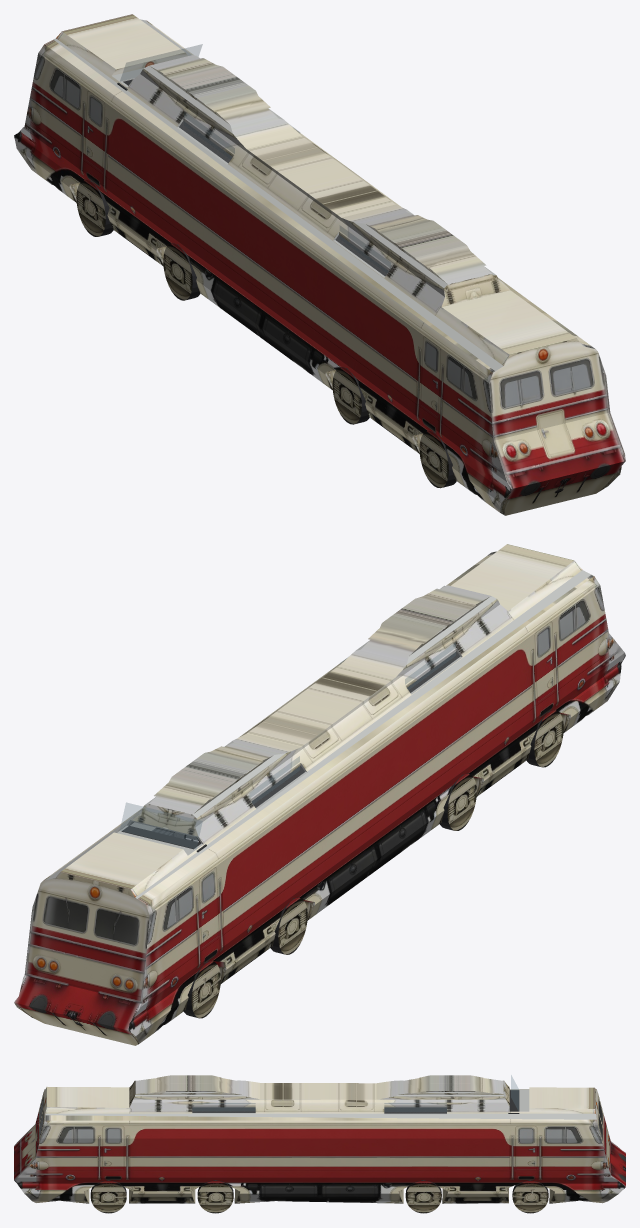
Rendered from freight_locomotive.glb.
The picture shows the model from 3 angles, top to bottom: view 1: azimuth 30°, elevation 25°; view 2: azimuth 150°, elevation 25°; view 3: azimuth 270°, elevation 25°; orthographic projection. The views are drawn at different scales.
Visible parts, largest first — view 1: freight_locomotive, freight_locomotive_cabin, wheel_FL, wheel_M1L, wheel_BL, wheel_M2L; view 2: freight_locomotive, freight_locomotive_cabin, wheel_BL, wheel_FL, wheel_M1L, wheel_M2L; view 3: freight_locomotive, freight_locomotive_cabin, wheel_FR, wheel_BR, wheel_M2R, wheel_M1R.
Part boxes in pixels (x1,y1,x2,y2): freight_locomotive: (14,14,625,515); freight_locomotive_cabin: (117,44,390,276); wheel_FL: (76,179,113,236); wheel_M1L: (163,243,200,300); wheel_BL: (419,430,456,488); wheel_M2L: (332,367,369,424); freight_locomotive: (14,544,625,1045); freight_locomotive_cabin: (119,642,460,852); wheel_BL: (526,710,563,767); wheel_FL: (184,961,220,1018); wheel_M1L: (270,897,307,954); wheel_M2L: (440,773,476,830); freight_locomotive: (14,1075,625,1203); freight_locomotive_cabin: (192,1075,519,1113); wheel_FR: (512,1180,548,1213); wheel_BR: (90,1180,126,1213); wheel_M2R: (197,1180,233,1213); wheel_M1R: (405,1180,441,1213).
Size of the model in its own units: 3.04 by 4.48 by 21.98.
11 materials, 4 textured.
